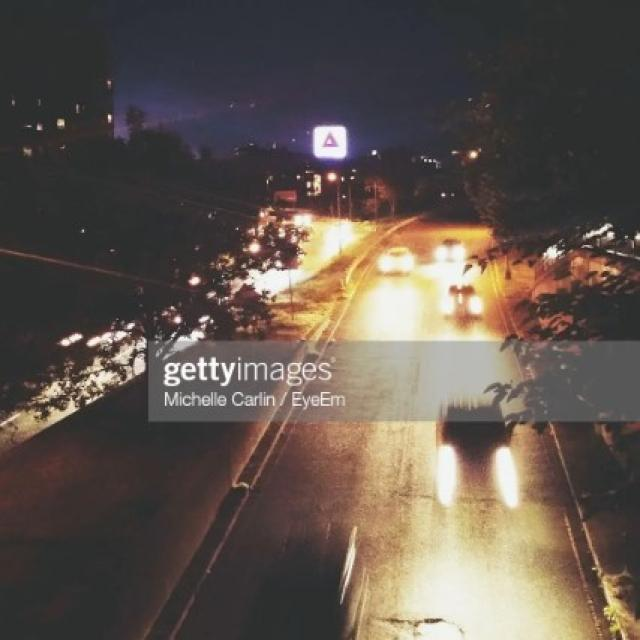car: (433, 390, 516, 510), (438, 282, 484, 322), (377, 243, 416, 279), (436, 235, 468, 266)
